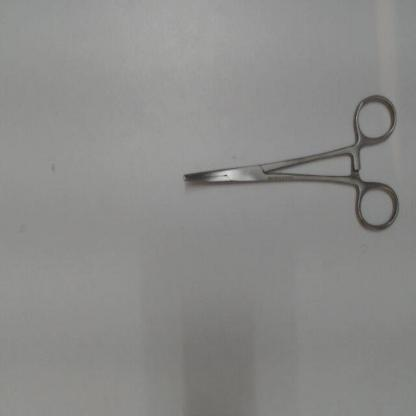Crile Artery Forceps: (169, 84, 406, 241)
